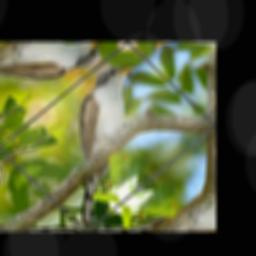Cuckoo: (3, 50, 208, 229)
